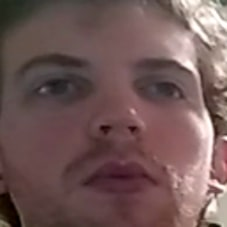awake: (9, 42, 205, 208)
